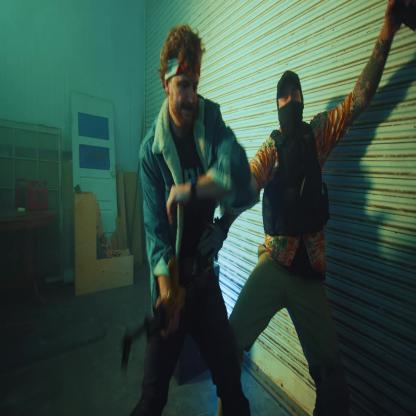Gun: (104, 226, 224, 382)
